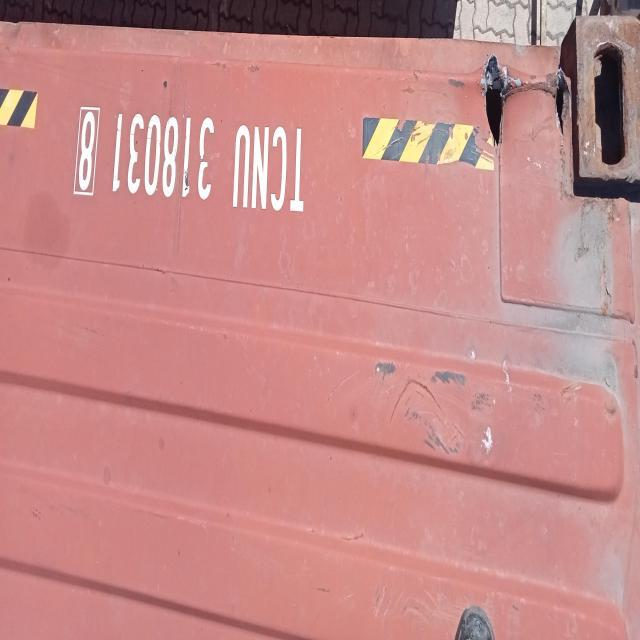hole: (478, 56, 513, 151), (544, 69, 583, 146)
